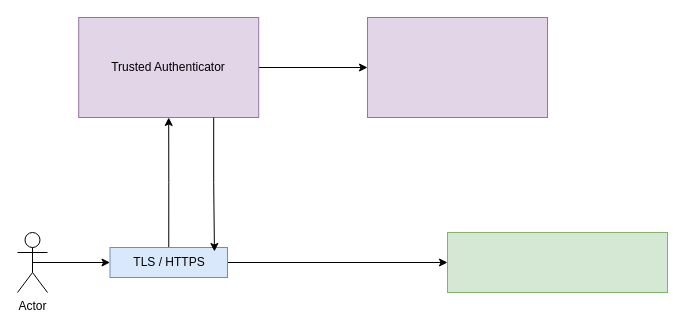
Some shapes in this 685 by 331 pixel diagram are drawn without their labels. The shapes that lost their labels are listed below. From the top down, each one's centre as x and y in pixels, then its label:
At [457,67]: "User Database, LDAP/AD".
At [557,262]: "Server-Application".
